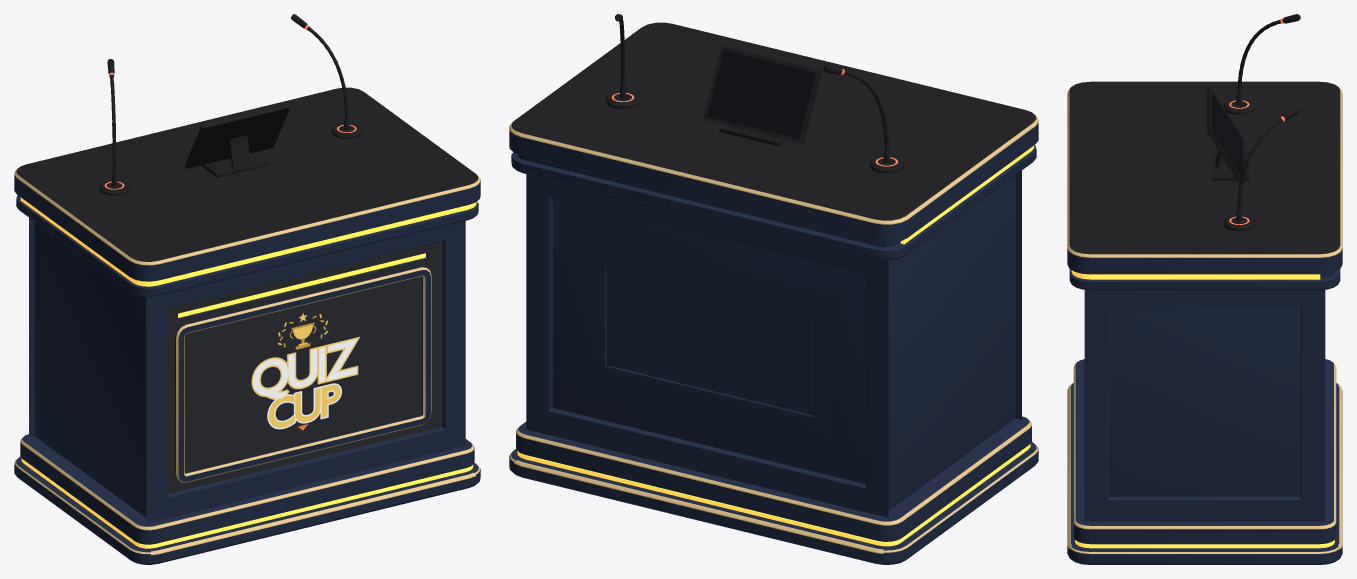
Rendered from host_podium.glb.
3 renders of one model, left to right at view 1: azimuth 30°, elevation 25°; view 2: azimuth 150°, elevation 25°; view 3: azimuth 270°, elevation 25°, orthographic. The views are drawn at different scales.
Visible parts, largest first — view 1: HostPodium_Top, HostPodium_Body, HostPodium_FrontPanel, HostPodium_Base, HostPodium_Logo, HostPodium_Tablet, HostPodium_LED_Top, HostPodium_LED_Base, HostPodium_LED_Front, HostPodium_Microphone_Right, HostPodium_Microphone_Left; view 2: HostPodium_Body, HostPodium_Top, HostPodium_Base, HostPodium_Tablet, HostPodium_LED_Base, HostPodium_Microphone_Left, HostPodium_Microphone_Right; view 3: HostPodium_Body, HostPodium_Top, HostPodium_Base, HostPodium_Tablet, HostPodium_LED_Top, HostPodium_LED_Base, HostPodium_Microphone_Right, HostPodium_Microphone_Left.
Part boxes in pixels (bbox=[...]): HostPodium_Top: bbox=[14, 87, 480, 296]; HostPodium_Body: bbox=[29, 218, 465, 523]; HostPodium_FrontPanel: bbox=[166, 241, 442, 493]; HostPodium_Base: bbox=[14, 434, 480, 564]; HostPodium_Logo: bbox=[250, 313, 363, 431]; HostPodium_Tablet: bbox=[184, 104, 289, 177]; HostPodium_LED_Top: bbox=[20, 197, 476, 286]; HostPodium_LED_Base: bbox=[21, 458, 473, 548]; HostPodium_LED_Front: bbox=[178, 253, 425, 317]; HostPodium_Microphone_Right: bbox=[291, 14, 362, 139]; HostPodium_Microphone_Left: bbox=[99, 59, 129, 195]; HostPodium_Body: bbox=[526, 170, 1021, 517]; HostPodium_Top: bbox=[509, 22, 1038, 260]; HostPodium_Base: bbox=[509, 416, 1038, 564]; HostPodium_Tablet: bbox=[702, 46, 822, 146]; HostPodium_LED_Base: bbox=[517, 444, 1030, 546]; HostPodium_Microphone_Left: bbox=[823, 64, 904, 173]; HostPodium_Microphone_Right: bbox=[605, 14, 640, 109]; HostPodium_Body: bbox=[1084, 290, 1325, 521]; HostPodium_Top: bbox=[1067, 81, 1342, 290]; HostPodium_Base: bbox=[1067, 359, 1342, 564]; HostPodium_Tablet: bbox=[1206, 87, 1249, 184]; HostPodium_LED_Top: bbox=[1071, 270, 1320, 279]; HostPodium_LED_Base: bbox=[1075, 540, 1334, 548]; HostPodium_Microphone_Right: bbox=[1223, 106, 1300, 231]; HostPodium_Microphone_Left: bbox=[1223, 14, 1300, 115].
Size of the model in its own units: 1.2 by 1.34 by 0.8.
Materials: 11 (1 with a texture image).
